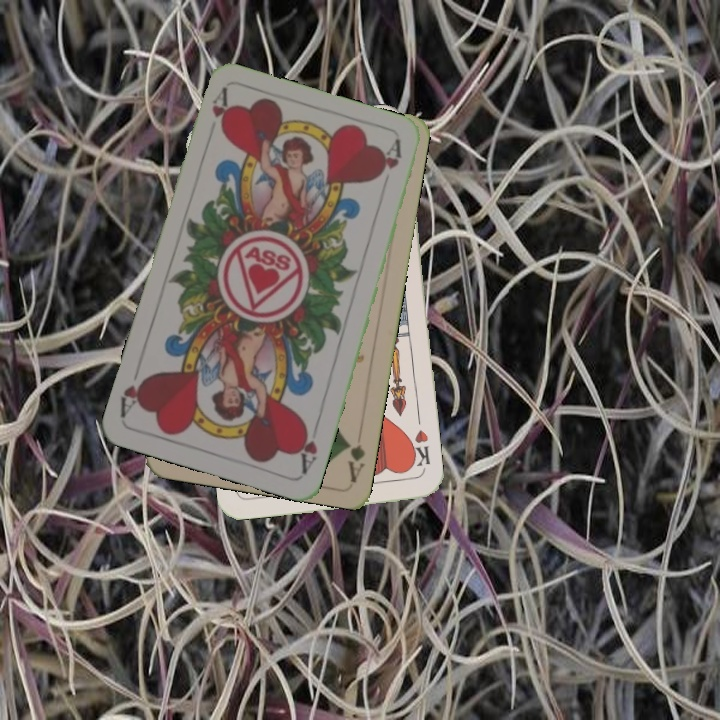GA: (342, 437, 368, 484)
HA: (293, 418, 322, 476), (207, 85, 234, 136)
HK: (405, 426, 432, 476)
